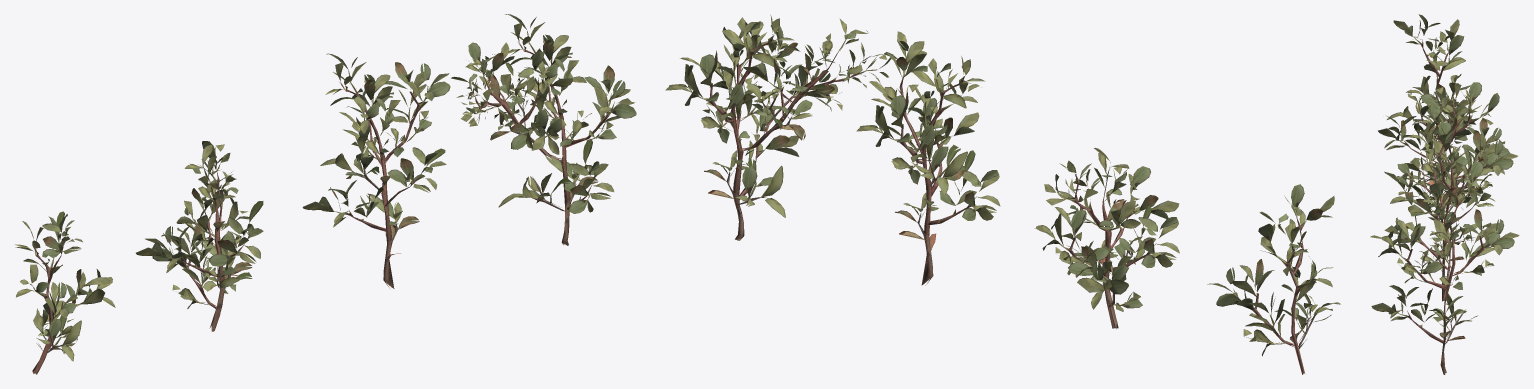
The model's file is shrub_04.glb.
3 renders of one model, left to right at view 1: azimuth 30°, elevation 25°; view 2: azimuth 150°, elevation 25°; view 3: azimuth 270°, elevation 25°, orthographic. The views are drawn at different scales.
Visible parts, largest first — view 1: shrub_04; view 2: shrub_04; view 3: shrub_04.
Part boxes in pixels (x1,y1,x2,y2): shrub_04: (15,14,636,374); shrub_04: (665,15,1340,374); shrub_04: (1370,14,1519,374).
Size of the model in its own units: 0.5819 by 0.2157 by 0.1448.
Materials: 1 (1 with a texture image).
